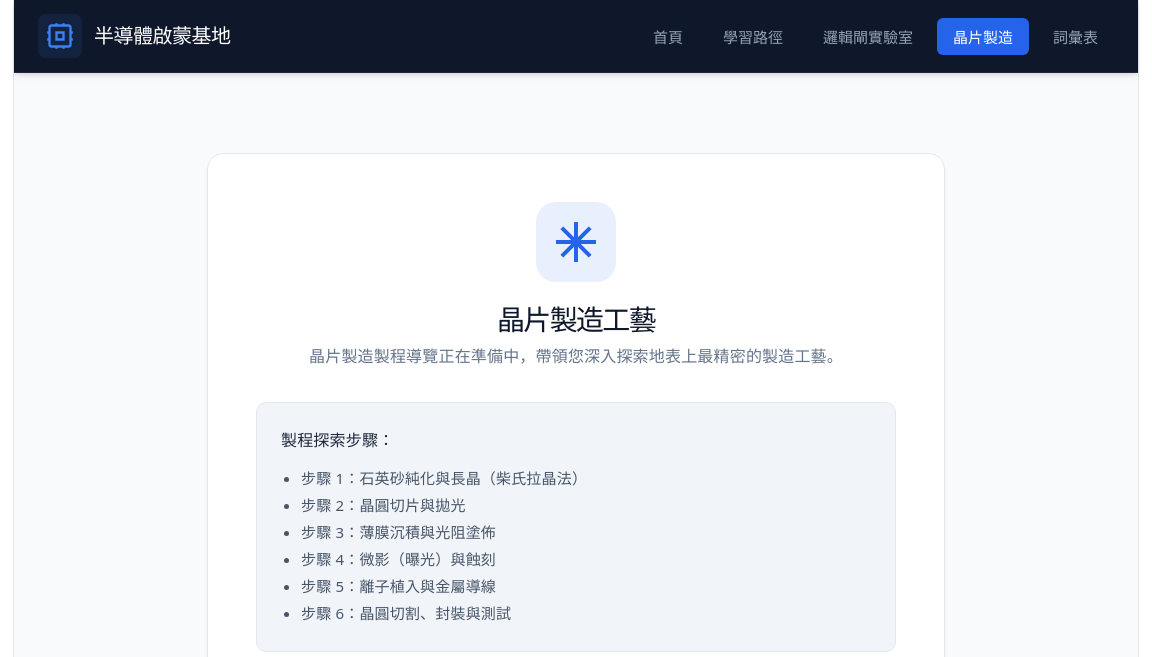
it: Introduce Semiconductor Website M1 › navigates to glossary page
Click the button "詞彙表". click: (1076, 36)
box: 1037,18 -> 1114,54
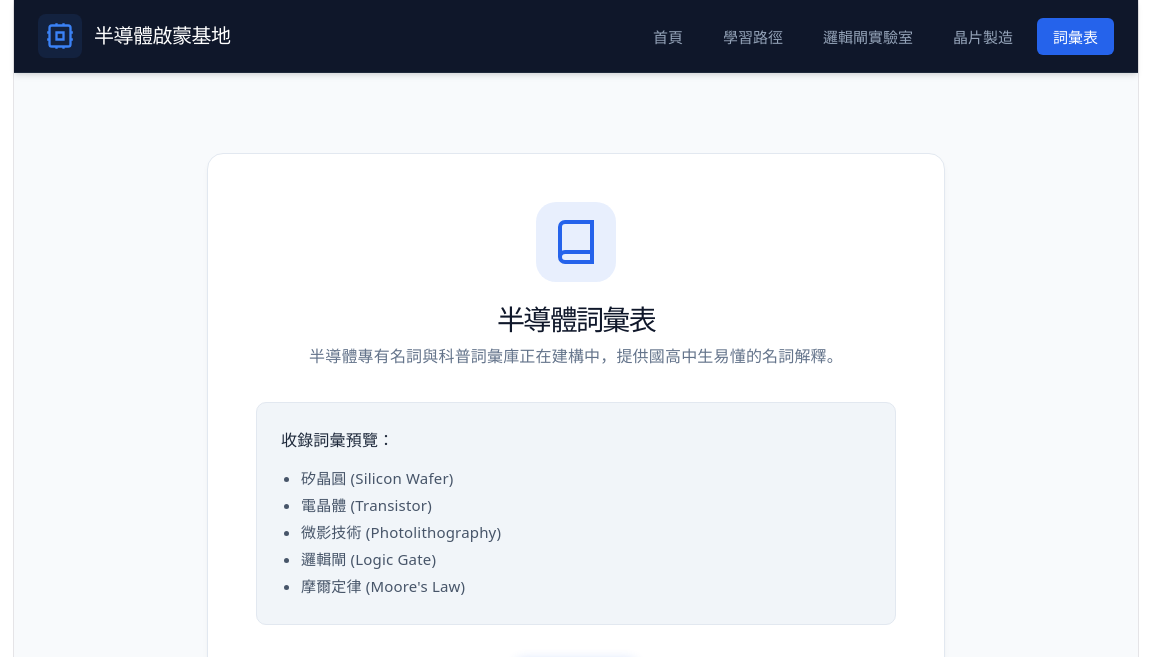
Now the heading "半導體詞彙表" is shown, box 497,300 -> 655,338
